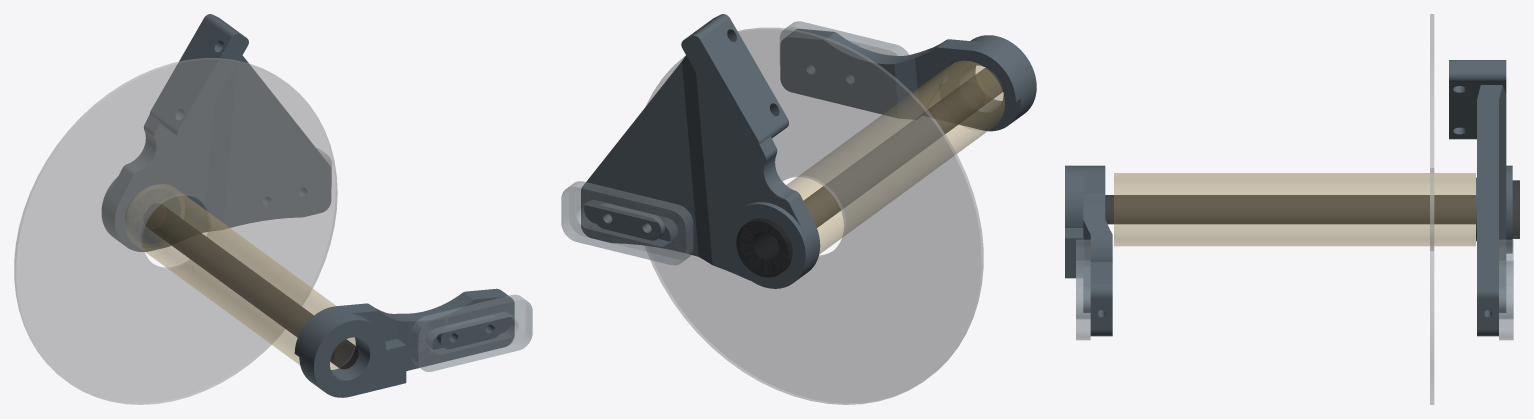
File: assembly.glb
3 views of the same model, side by side, from view 1: azimuth 30°, elevation 25°; view 2: azimuth 150°, elevation 25°; view 3: azimuth 270°, elevation 25° (orthographic). The views are drawn at different scales.
Visible parts, largest first — view 1: rotor, dropout_left, hub, dropout_right, thru_axle, frame_plate_right; view 2: rotor, dropout_left, dropout_right, hub, thru_axle, frame_plate_left, frame_plate_right; view 3: hub, thru_axle, dropout_left, dropout_right, rotor, frame_plate_right, frame_plate_left.
Part boxes in pixels (box(x1,y1,x2,y2)): rotor: box(14, 58, 337, 404); dropout_left: box(101, 14, 331, 251); hub: box(125, 184, 355, 369); dropout_right: box(294, 288, 514, 397); thru_axle: box(143, 204, 358, 369); frame_plate_right: box(411, 294, 532, 371); rotor: box(645, 27, 983, 404); dropout_left: box(581, 14, 820, 288); dropout_right: box(780, 29, 1036, 131); hub: box(786, 60, 1004, 254); thru_axle: box(736, 67, 1003, 277); frame_plate_left: box(561, 181, 693, 265); frame_plate_right: box(780, 21, 908, 55); hub: box(1114, 173, 1475, 246); thru_axle: box(1105, 180, 1519, 238); dropout_left: box(1449, 60, 1512, 336); dropout_right: box(1065, 165, 1112, 336); rotor: box(1430, 14, 1434, 404); frame_plate_right: box(1076, 239, 1090, 340); frame_plate_left: box(1499, 239, 1513, 340).
Bounding box in the file's own units: 173 × 163 × 186.
